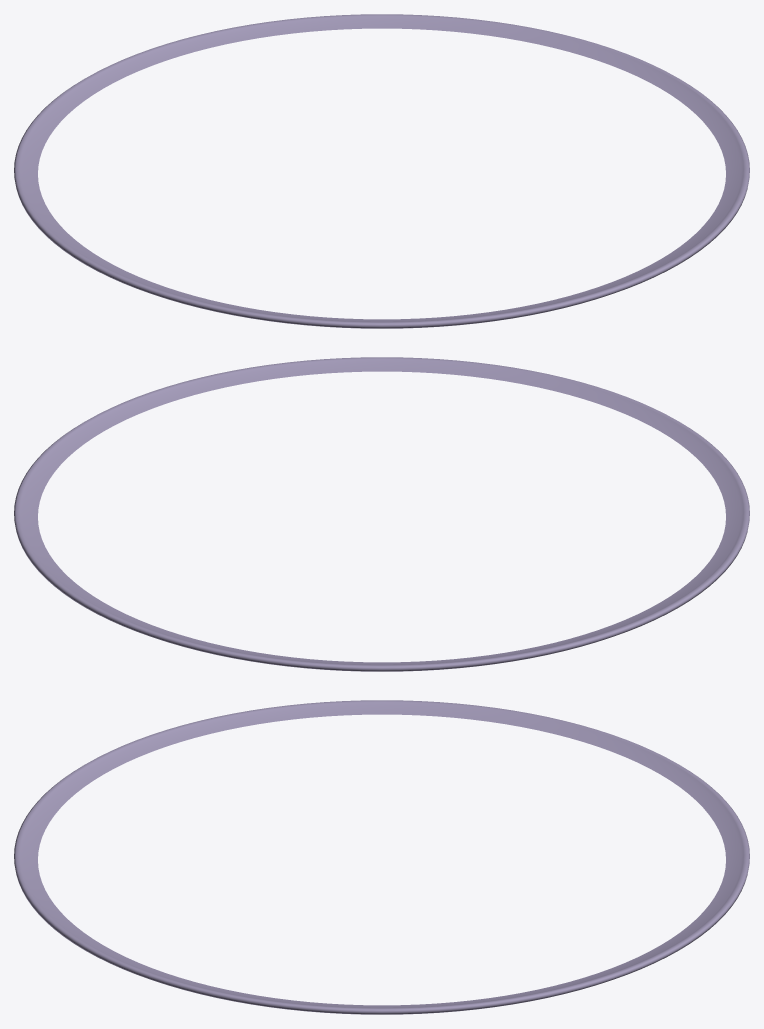
Rendered from EatsaPizzaPan.glb.
3 renders of one model, top to bottom at view 1: azimuth 30°, elevation 25°; view 2: azimuth 150°, elevation 25°; view 3: azimuth 270°, elevation 25°, orthographic.
Parts seen in each view (by area): view 1: Rim; view 2: Rim; view 3: Rim.
Part boxes in pixels (x1,y1,x2,y2): Rim: (14,14,749,328); Rim: (14,357,749,671); Rim: (14,700,749,1014).
Size of the model in its own units: 43.96 by 0.4 by 43.96.
